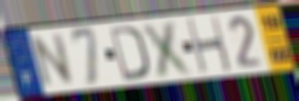2: (227, 14, 264, 70)
7: (68, 26, 101, 89)
D: (107, 24, 151, 83)
H: (185, 14, 235, 76)
N: (30, 31, 76, 90)
X: (139, 18, 197, 79)
